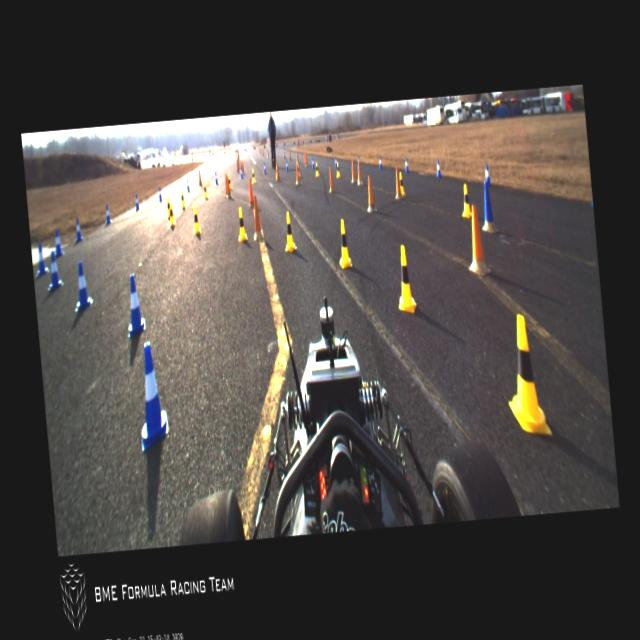blue_cone: (132, 338, 171, 452), (122, 270, 146, 336), (70, 260, 93, 311), (43, 250, 64, 291), (34, 239, 48, 273), (52, 226, 64, 256), (72, 216, 83, 241), (484, 162, 492, 188), (104, 204, 112, 224), (434, 158, 442, 177), (377, 153, 383, 170), (134, 193, 140, 210), (404, 156, 409, 173), (185, 177, 190, 193), (213, 170, 218, 186), (239, 165, 244, 179), (332, 154, 337, 168), (262, 161, 267, 174), (284, 159, 289, 172), (158, 186, 162, 202), (310, 156, 314, 168)
unknown_cone: (463, 202, 491, 278), (478, 180, 498, 232), (251, 194, 263, 242), (364, 174, 376, 214), (392, 166, 401, 200), (327, 164, 334, 192), (355, 157, 362, 185), (294, 162, 302, 186), (247, 178, 254, 204), (349, 158, 356, 184), (225, 175, 232, 200), (274, 160, 280, 181)
yellow_cone: (501, 312, 552, 440), (392, 241, 417, 316), (335, 217, 353, 269), (281, 210, 297, 253), (458, 182, 472, 220), (235, 205, 248, 242), (190, 203, 202, 236), (167, 203, 176, 227), (398, 170, 406, 195), (179, 190, 186, 208), (334, 160, 340, 178), (202, 180, 208, 198), (314, 160, 320, 177), (250, 168, 256, 184), (166, 199, 170, 218), (228, 172, 232, 190)
